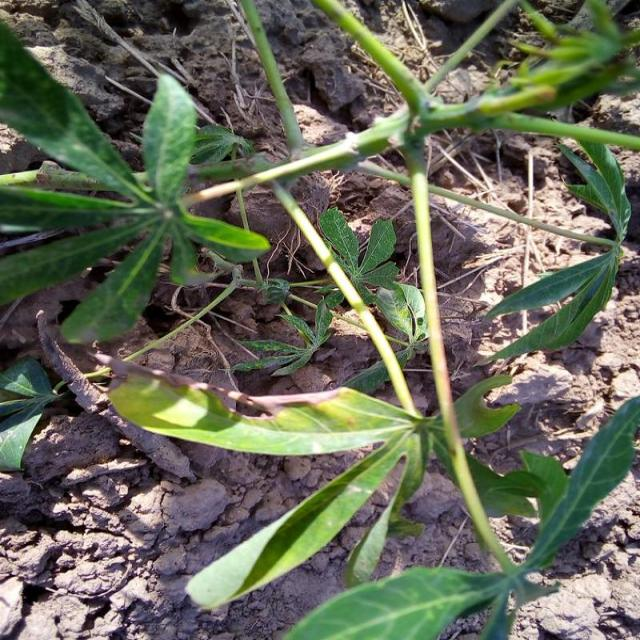cassava leaf: (106, 358, 419, 456)
